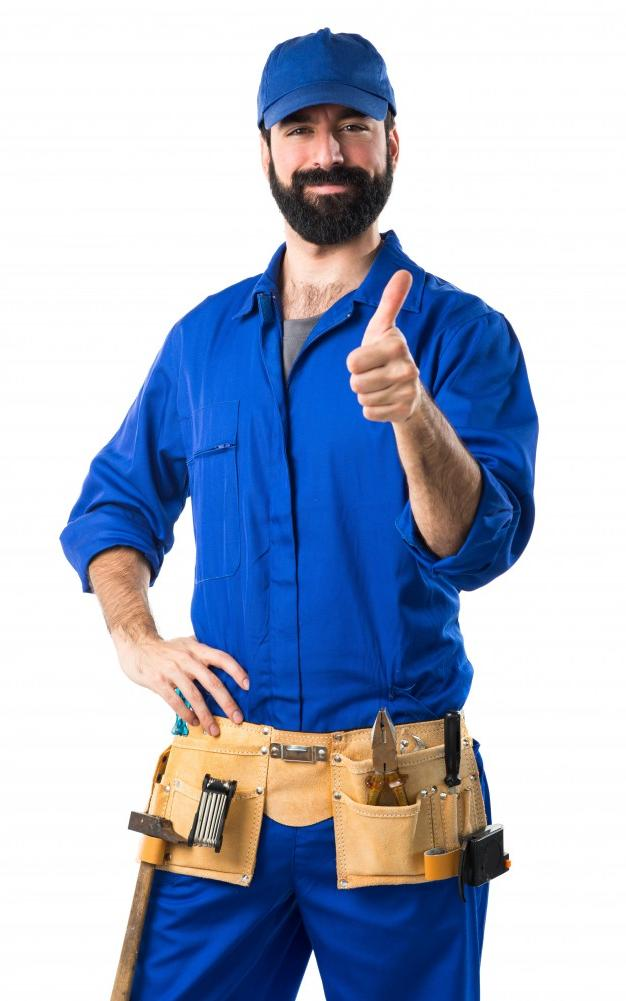thumbsup: (345, 269, 421, 421)
